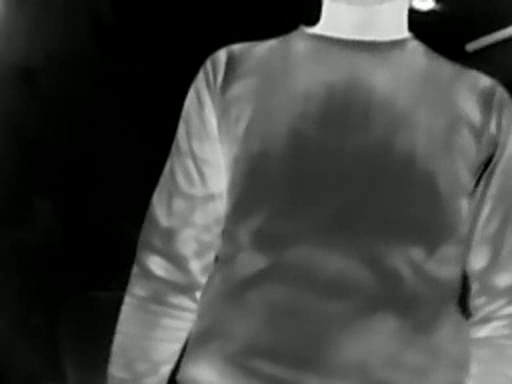chest: (223, 44, 479, 337)
